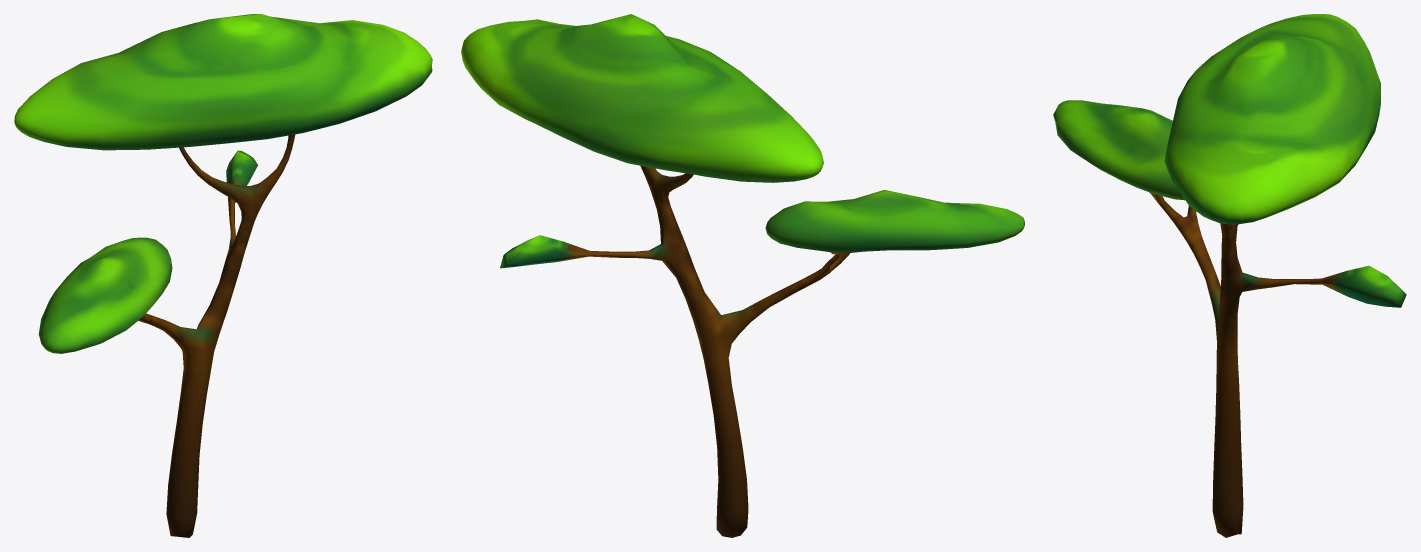
File: FlatTree.fbx
The picture shows the model from 3 angles, left to right: view 1: azimuth 30°, elevation 25°; view 2: azimuth 150°, elevation 25°; view 3: azimuth 270°, elevation 25°; orthographic projection. The views are drawn at different scales.
Parts seen in each view (by area): view 1: FlatTree; view 2: FlatTree; view 3: FlatTree.
Part boxes in pixels (x1,y1,x2,y2): FlatTree: [14, 14, 432, 537]; FlatTree: [461, 14, 1024, 537]; FlatTree: [1053, 14, 1406, 537].
Bounding box in the file's own units: 448 × 450 × 275.
